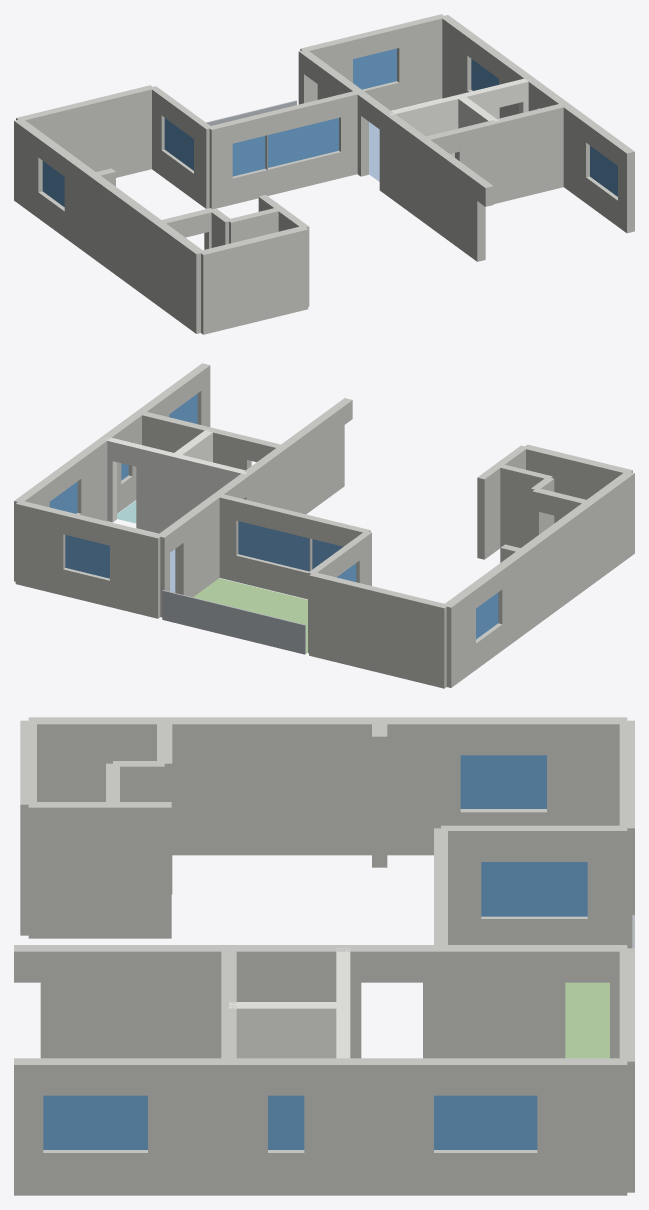
Rendered from Screenshot 2026-10-06 144536_3d.obj.
3 renders of one model, top to bottom at view 1: azimuth 30°, elevation 25°; view 2: azimuth 150°, elevation 25°; view 3: azimuth 270°, elevation 25°, orthographic. The views are drawn at different scales.
Visible parts, largest first — view 1: wall_W11_25, wall_W1_0, wall_W13_30, wall_W8_20, wall_W22_46, wall_W14_31, wall_W2_4, wall_W21_45, window_N6_66, wall_W12_26, wall_W12_29, wall_W26_57 (+44 smaller); view 2: wall_W1_0, wall_W13_30, wall_W22_46, railing_R1_69, wall_W2_1, wall_W2_4, wall_W14_31, wall_W19_41, wall_W6_14, wall_W11_25, floor_R1_balcony_70, wall_W12_26 (+37 smaller); view 3: wall_W13_30, wall_W22_46, wall_W19_41, wall_W24_52, wall_W24_49, wall_W17_34, wall_W26_57, wall_W12_29, wall_W14_31, wall_W16_33, wall_W12_26, window_N2_62 (+36 smaller).
Boxes of the visible parts, x1,y1,x2,y2 form: wall_W11_25: (199, 226, 308, 334); wall_W1_0: (16, 85, 154, 177); wall_W13_30: (89, 174, 162, 303); wall_W8_20: (493, 103, 567, 203); wall_W22_46: (420, 138, 485, 261); wall_W14_31: (155, 222, 204, 333); wall_W2_4: (395, 14, 445, 108); wall_W21_45: (385, 113, 427, 219); window_N6_66: (268, 118, 338, 167); wall_W12_26: (14, 119, 46, 217); wall_W12_29: (64, 156, 97, 255); wall_W26_57: (562, 103, 593, 202); wall_W1_0: (309, 572, 448, 688); wall_W13_30: (521, 501, 593, 631); wall_W22_46: (280, 404, 344, 514); railing_R1_69: (162, 590, 305, 654); wall_W2_1: (110, 523, 161, 618); wall_W2_4: (15, 500, 67, 595); wall_W14_31: (585, 471, 634, 583); wall_W19_41: (175, 494, 219, 597); wall_W6_14: (136, 445, 177, 533); wall_W11_25: (522, 444, 632, 523); floor_R1_balcony_70: (193, 578, 307, 653); wall_W12_26: (443, 587, 475, 687); wall_W13_30: (164, 717, 379, 855); wall_W22_46: (40, 945, 228, 1058); wall_W19_41: (441, 945, 565, 1058); wall_W24_52: (343, 1058, 433, 1195); wall_W24_49: (537, 1058, 627, 1195); wall_W17_34: (28, 802, 112, 938); wall_W26_57: (148, 1058, 228, 1195); wall_W12_29: (379, 717, 460, 855); wall_W14_31: (28, 717, 164, 801); wall_W16_33: (113, 802, 171, 938); wall_W12_26: (547, 717, 627, 825); window_N2_62: (481, 862, 587, 916).
Size of the model in its own units: 15.66 by 2.75 by 11.82.
